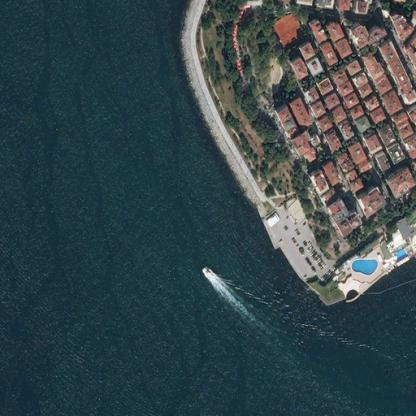ship: (194, 258, 219, 286)
